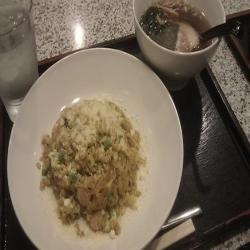rice: (54, 110, 135, 218)
